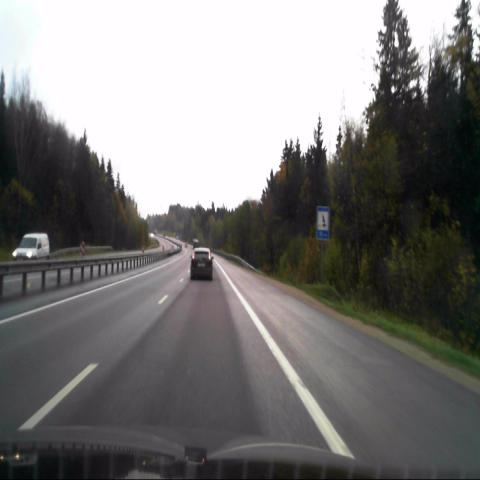7_11: (316, 206, 330, 241)
